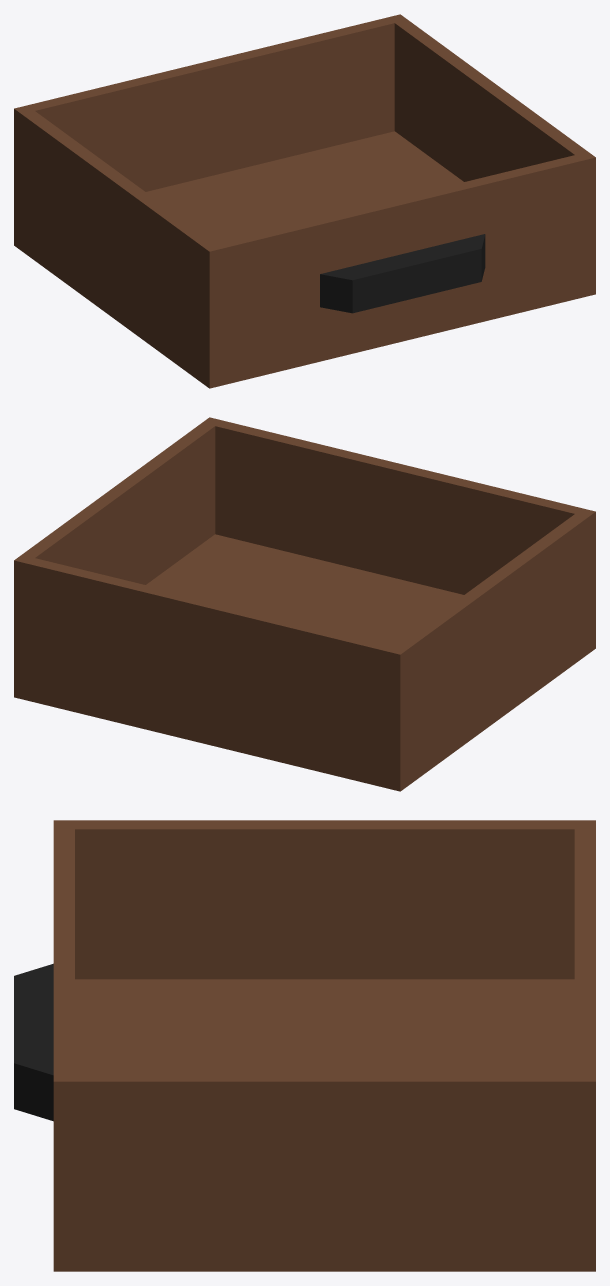
Rendered from Drawer_Mini_2.obj.
3 views of the same model, one above another, from view 1: azimuth 30°, elevation 25°; view 2: azimuth 150°, elevation 25°; view 3: azimuth 270°, elevation 25° (orthographic). The views are drawn at different scales.
Visible parts, largest first — view 1: Drawer_Mini_2; view 2: Drawer_Mini_2; view 3: Drawer_Mini_2.
Boxes of the visible parts, bbox=[...] form: Drawer_Mini_2: bbox=[14, 14, 595, 388]; Drawer_Mini_2: bbox=[14, 417, 595, 791]; Drawer_Mini_2: bbox=[14, 820, 595, 1271].
Bounding box in the file's own units: 0.4712 × 0.1596 × 0.4433.
